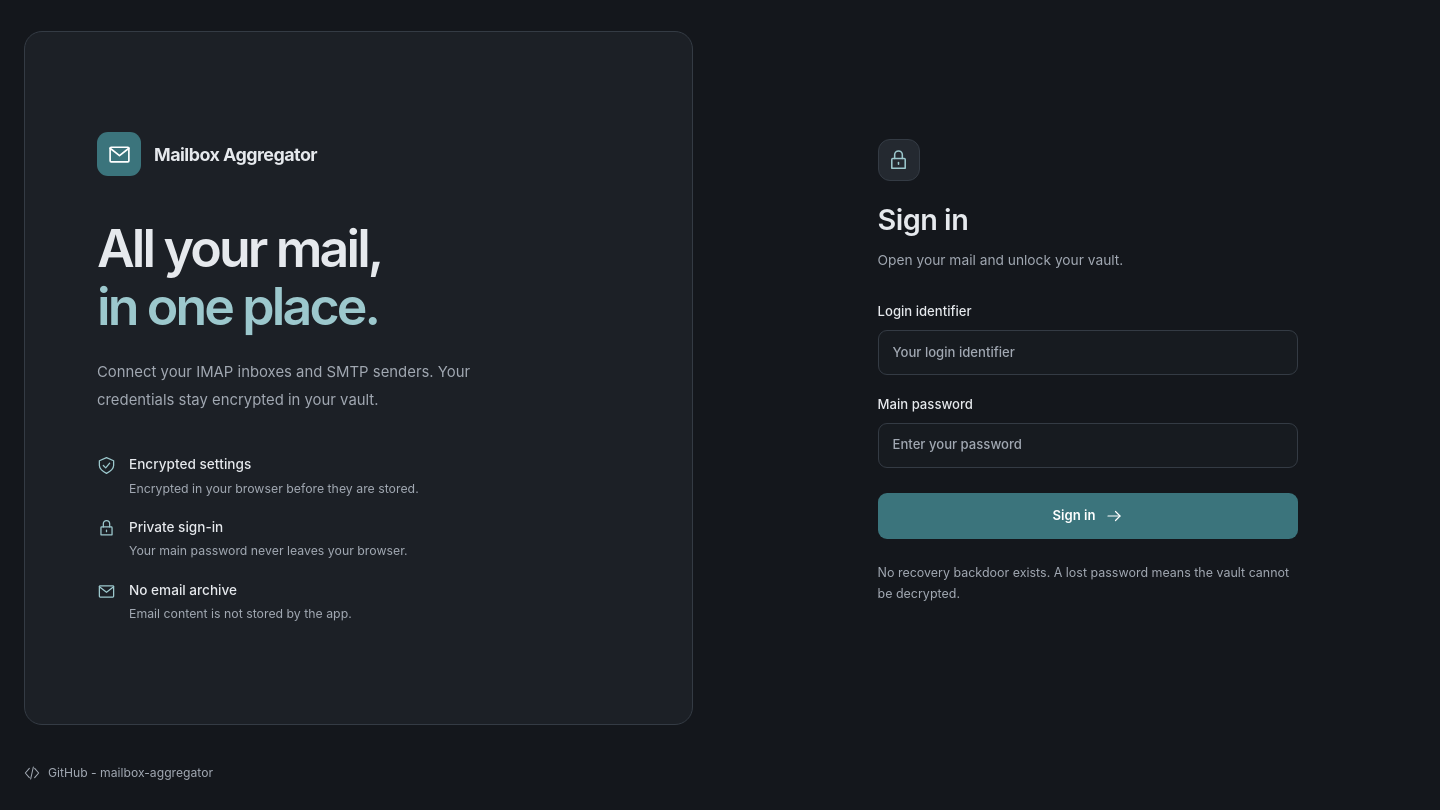
Test: signing in unlocks the browser vault › shows a vault failure without navigating or retaining a previous key
This screenshot has width=1440, height=810.
Type "Me@example.test" into the field labelled "Login identifier". click: {"x": 1088, "y": 352}
box: 878,330 -> 1298,375
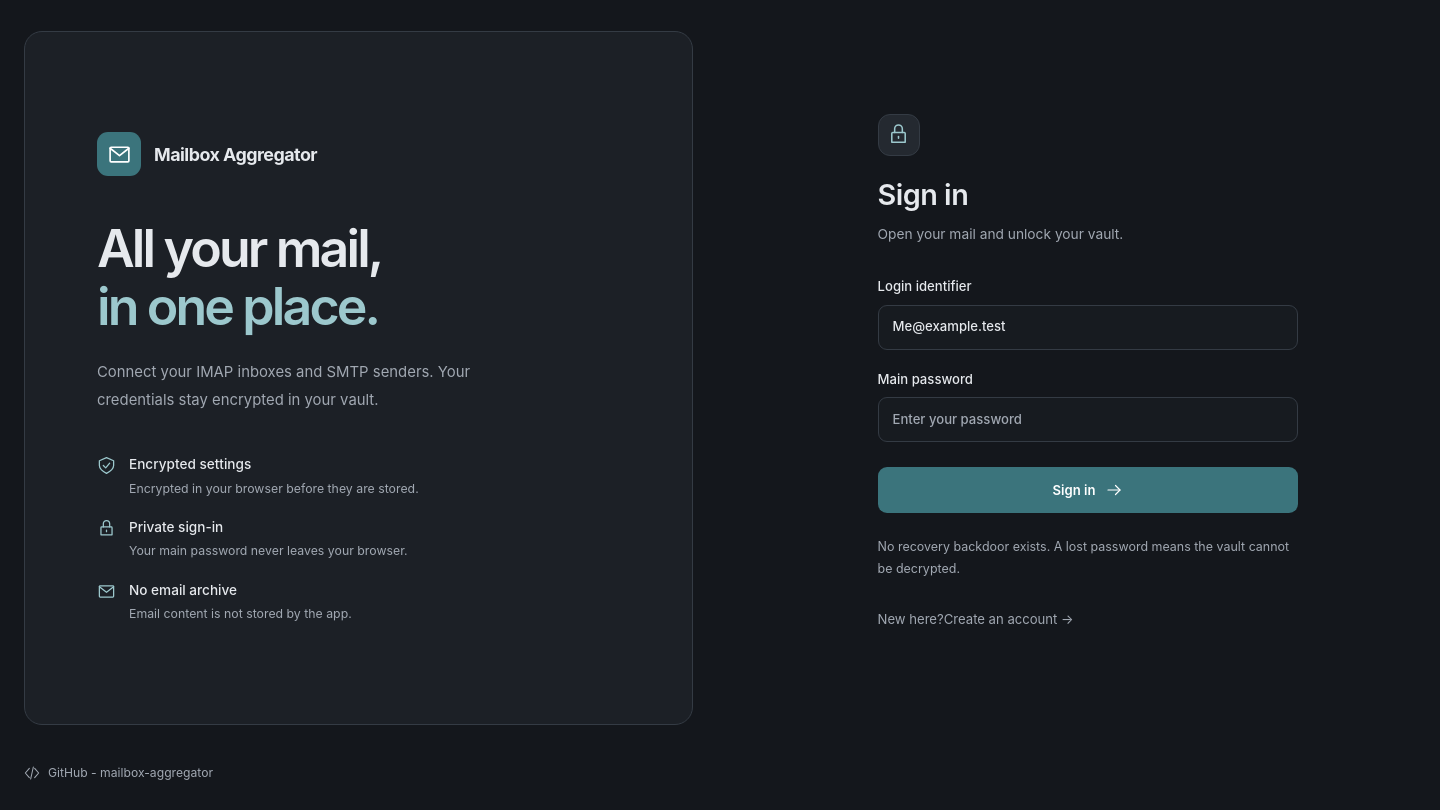
Type "correct horse battery staple" into the password field labelled "Main password". click: {"x": 1088, "y": 420}
box: 878,398 -> 1298,442
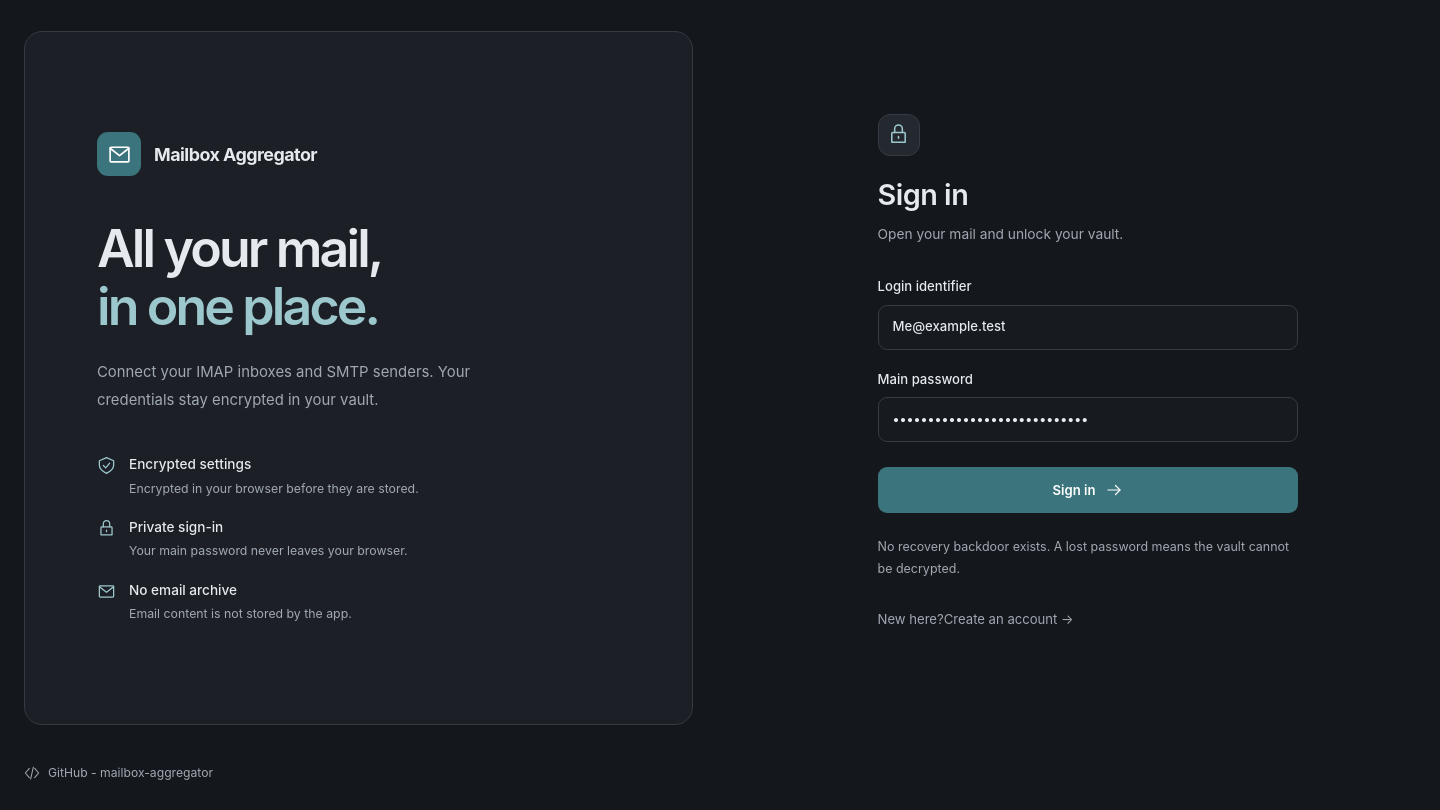
Submit the form, box 878,277 -> 1298,514
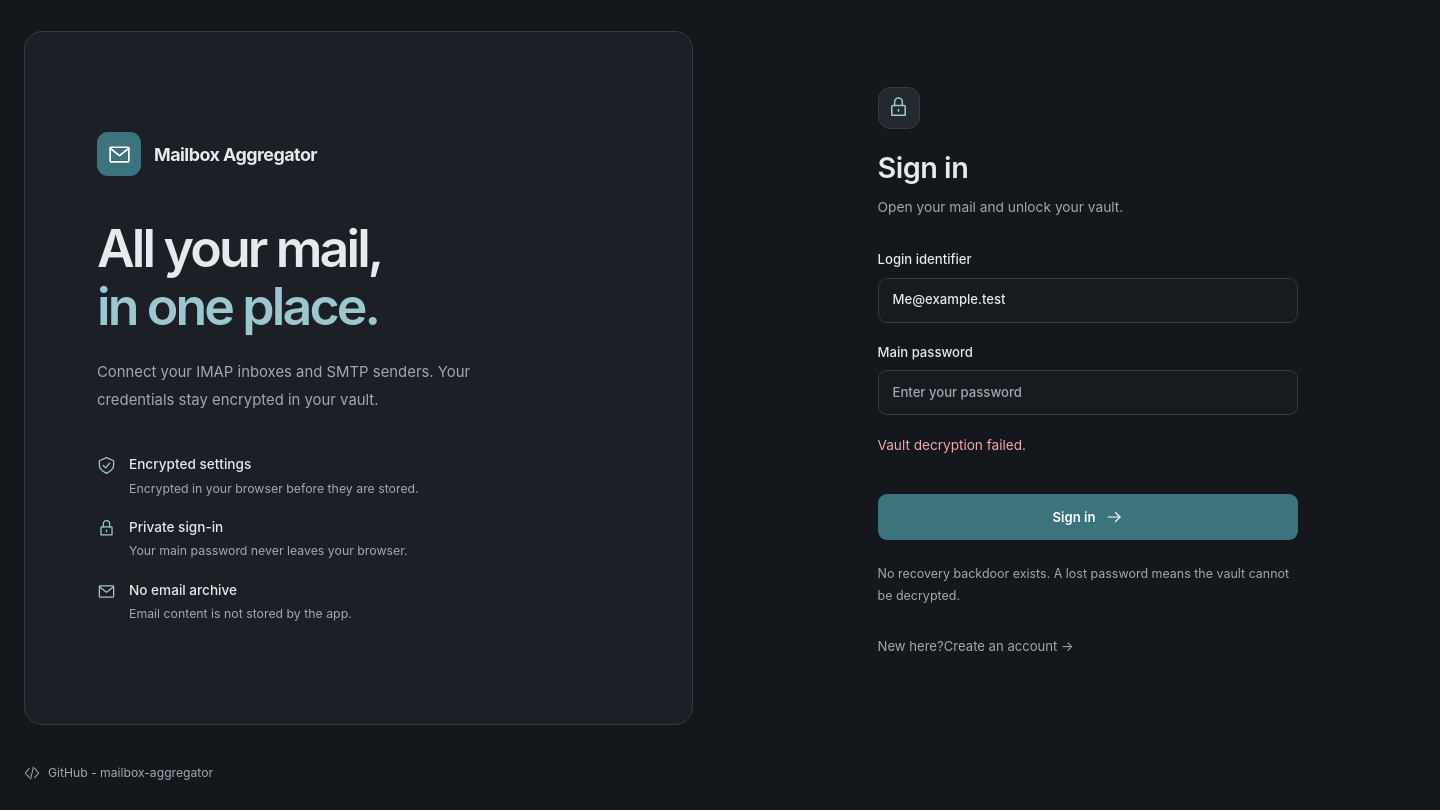
Expected: the message "Vault decryption failed." is shown, 878,438 -> 1026,454
Expected: the password field labelled "Main password" is empty, 878,370 -> 1298,416
